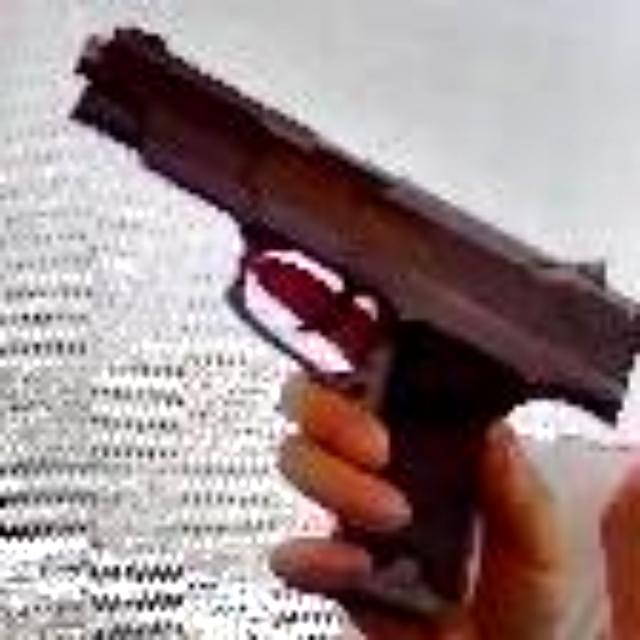pistol: (34, 1, 640, 640), (74, 34, 640, 640)
